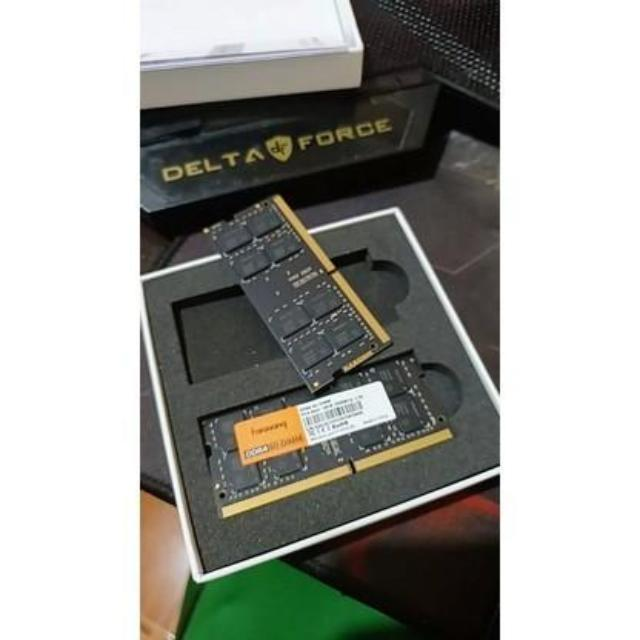RAM: (198, 359, 458, 519), (208, 190, 398, 399)
